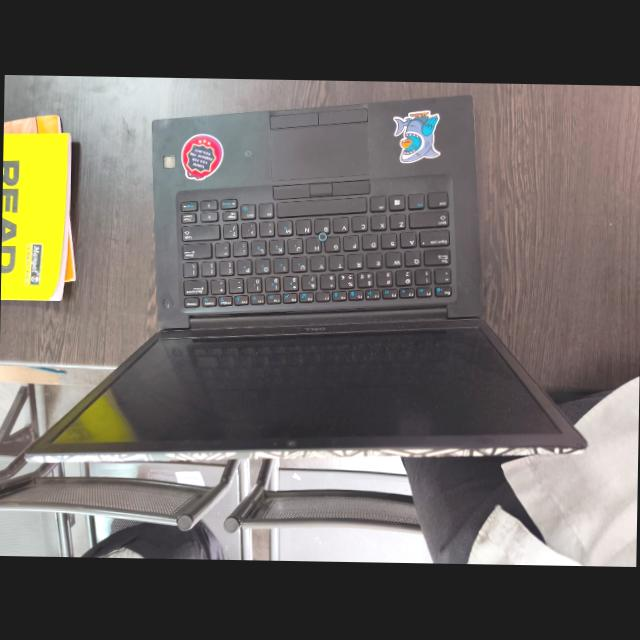laptop: (35, 87, 596, 469)
